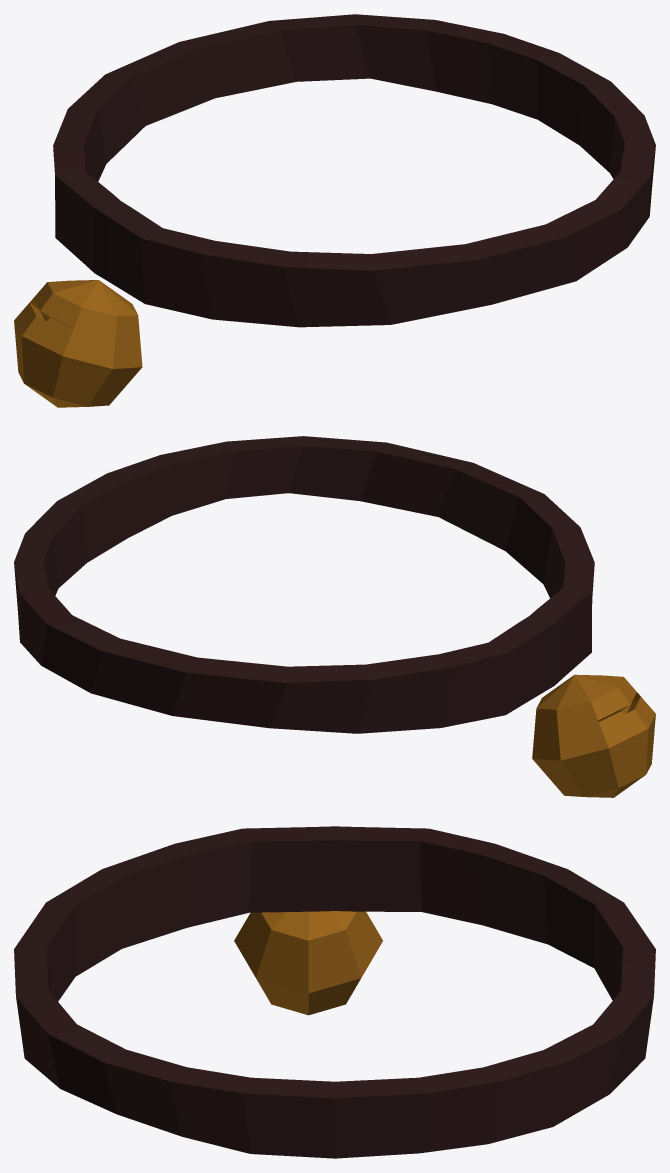
The model's file is NeckBrownCollar.FBX.
The picture shows the model from 3 angles, top to bottom: view 1: azimuth 30°, elevation 25°; view 2: azimuth 150°, elevation 25°; view 3: azimuth 270°, elevation 25°; orthographic projection. The views are drawn at different scales.
Parts seen in each view (by area): view 1: Object304; view 2: Object304; view 3: Object304.
Part boxes in pixels (x1,y1,x2,y2): Object304: (14,14,655,407); Object304: (14,436,655,797); Object304: (14,826,655,1158).
Bounding box in the file's own units: 11.41 × 3.32 × 9.78.
